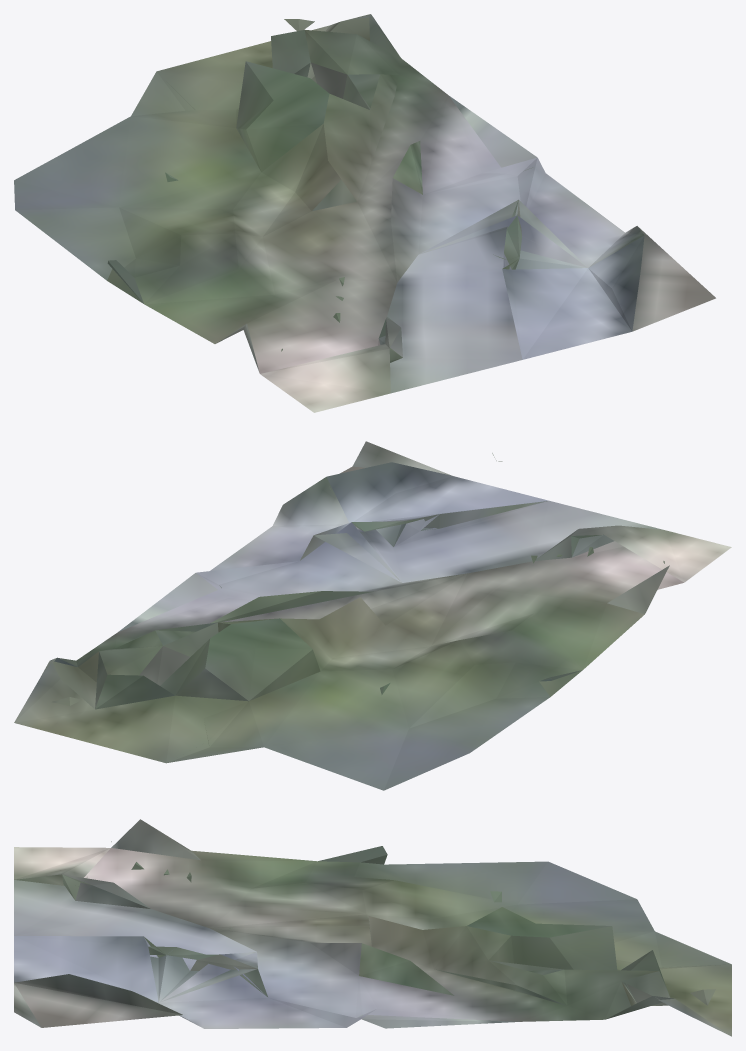
Rendered from Tile__000__005_L15_0.glb.
The picture shows the model from 3 angles, top to bottom: view 1: azimuth 30°, elevation 25°; view 2: azimuth 150°, elevation 25°; view 3: azimuth 270°, elevation 25°; orthographic projection. The views are drawn at different scales.
Visible parts, largest first — view 1: root; view 2: root; view 3: root.
Boxes of the visible parts, x1,y1,x2,y2 form: root: (14, 14, 715, 412); root: (14, 441, 731, 790); root: (14, 819, 731, 1036).
Size of the model in its own units: 60.71 by 15.17 by 101.
1 material, 1 textured.
